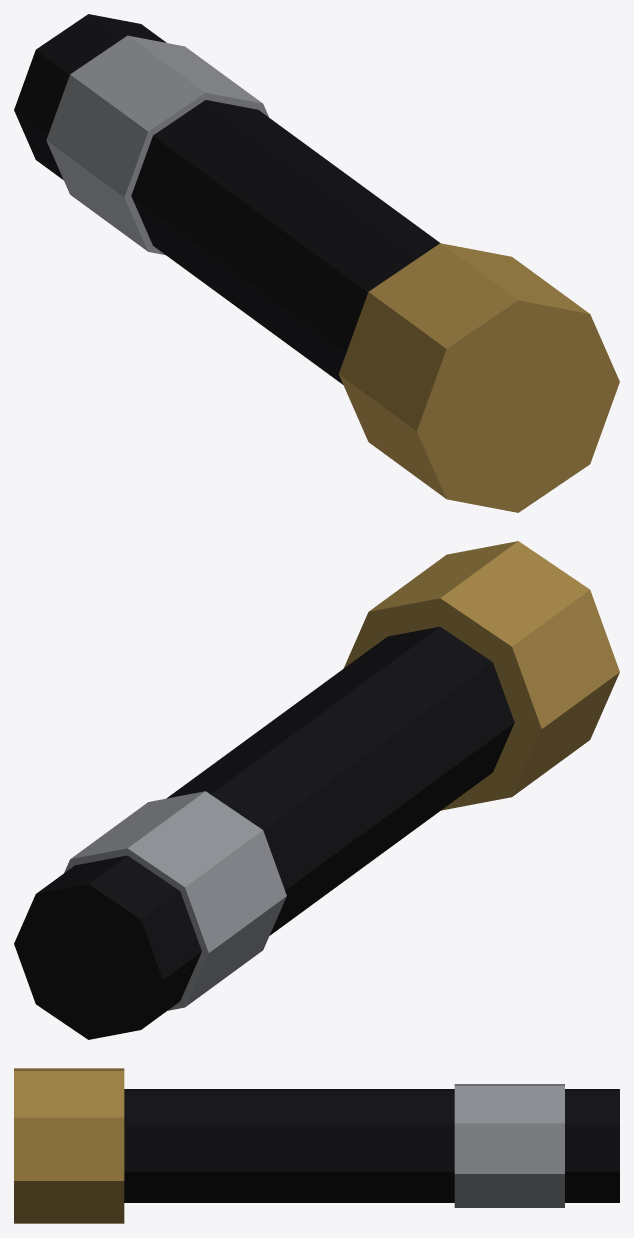
The model's file is Torch.obj.
3 views of the same model, one above another, from view 1: azimuth 30°, elevation 25°; view 2: azimuth 150°, elevation 25°; view 3: azimuth 270°, elevation 25° (orthographic). The views are drawn at different scales.
Visible parts, largest first — view 1: head, body, cap; view 2: body, head, cap; view 3: body, head, cap.
Part boxes in pixels (x1=…): head: x1=338, y1=243, x2=619, y2=512; body: x1=14, y1=14, x2=440, y2=384; cap: x1=46, y1=35, x2=268, y2=255; body: x1=14, y1=626, x2=514, y2=1039; head: x1=343, y1=541, x2=619, y2=810; cap: x1=64, y1=791, x2=286, y2=1010; body: x1=124, y1=1089, x2=619, y2=1202; head: x1=14, y1=1068, x2=124, y2=1223; cap: x1=454, y1=1084, x2=564, y2=1207.
Size of the model in its own units: 0.06 by 0.06 by 0.22.
